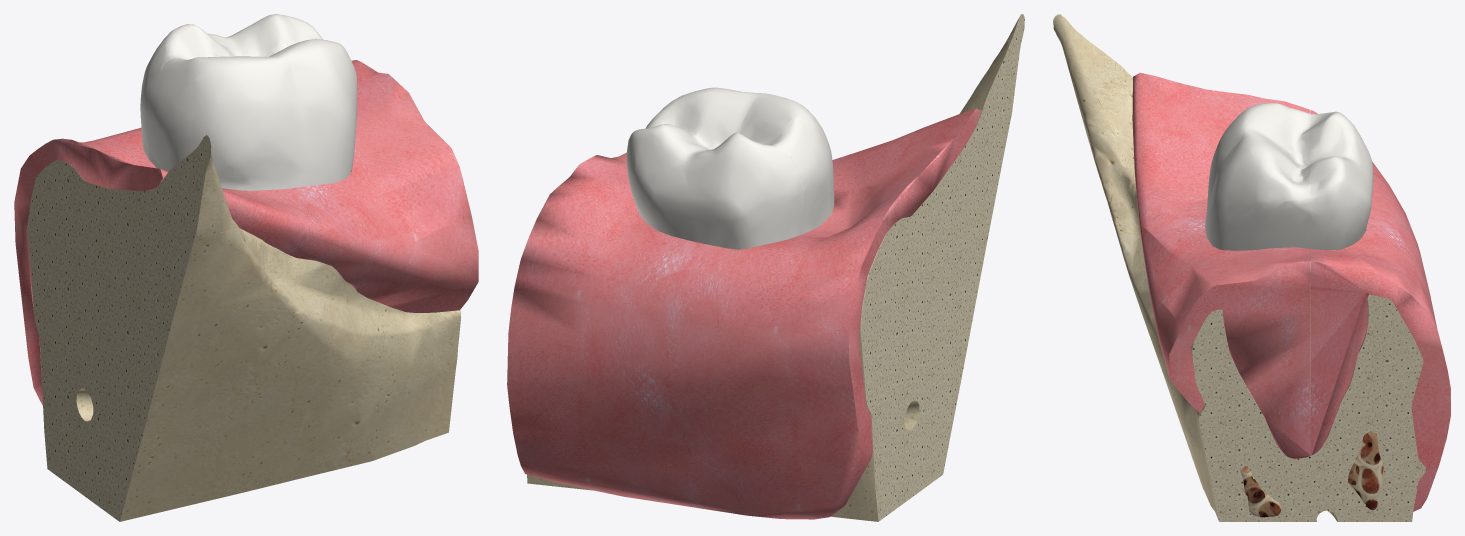
3 views of the same model, side by side, from view 1: azimuth 30°, elevation 25°; view 2: azimuth 150°, elevation 25°; view 3: azimuth 270°, elevation 25° (orthographic). The views are drawn at different scales.
Parts seen in each view (by area): view 1: kompakta_b, gingiva_b, schmelz_b, gingiva_a, kompakta_a, schmelz_a; view 2: gingiva_a, kompakta_b, schmelz_a, gingiva_b, schmelz_b, kompakta_a; view 3: gingiva_b, kompakta_b, gingiva_a, kompakta_a, schmelz_b, schmelz_a, spongiosa_a, spongiosa_b.
Boxes of the visible parts, bbox=[...] form: kompakta_b: bbox=[55, 134, 460, 521]; gingiva_b: bbox=[55, 77, 478, 312]; schmelz_b: bbox=[146, 39, 356, 190]; gingiva_a: bbox=[14, 60, 391, 405]; kompakta_a: bbox=[27, 161, 54, 474]; schmelz_a: bbox=[140, 14, 322, 158]; gingiva_a: bbox=[507, 162, 884, 519]; kompakta_b: bbox=[885, 14, 1024, 516]; schmelz_a: bbox=[626, 124, 803, 249]; gingiva_b: bbox=[584, 108, 980, 237]; schmelz_b: bbox=[646, 87, 834, 234]; kompakta_a: bbox=[527, 236, 885, 521]; gingiva_b: bbox=[1132, 72, 1310, 458]; kompakta_b: bbox=[1053, 14, 1310, 521]; gingiva_a: bbox=[1310, 110, 1450, 511]; kompakta_a: bbox=[1310, 265, 1426, 521]; schmelz_b: bbox=[1205, 103, 1310, 255]; schmelz_a: bbox=[1310, 111, 1373, 260]; spongiosa_a: bbox=[1347, 431, 1383, 509]; spongiosa_b: bbox=[1240, 466, 1281, 517].
Size of the model in its own units: 0.0198 by 0.025 by 0.0243.
21 materials, 8 textured.
